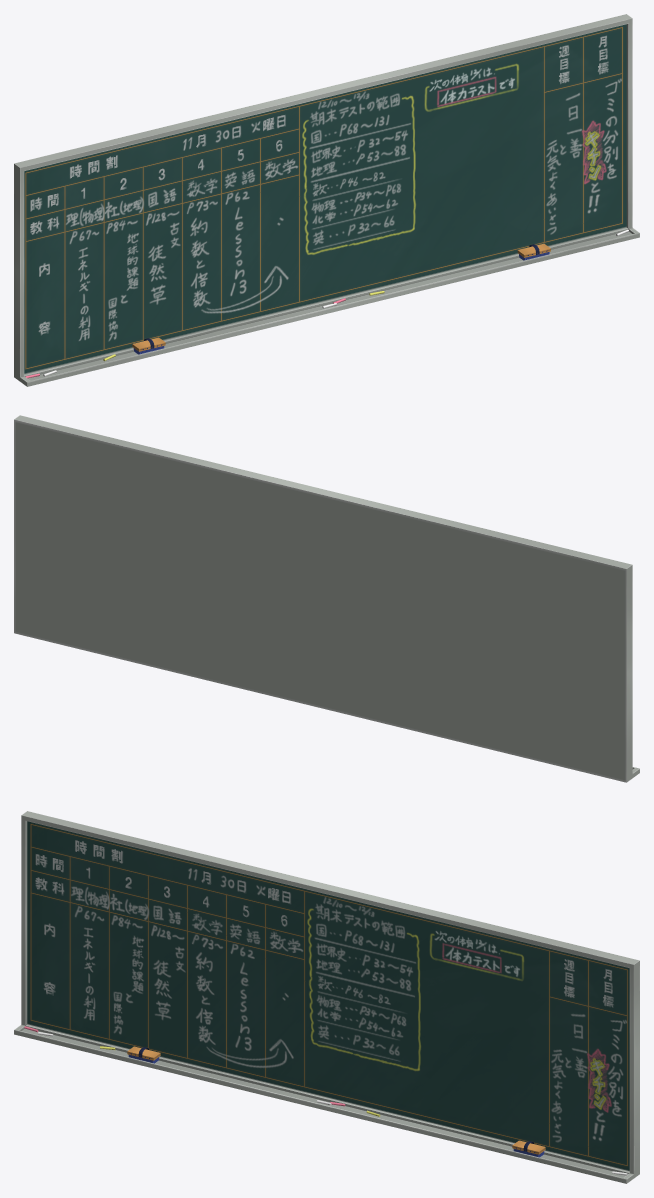
Rendered from Blackboard_01_02.fbx.
3 renders of one model, top to bottom at view 1: azimuth 30°, elevation 25°; view 2: azimuth 150°, elevation 25°; view 3: azimuth 330°, elevation 25°, orthographic.
Parts seen in each view (by area): view 1: blackboard01; view 2: blackboard01; view 3: blackboard01.
Boxes of the visible parts, x1=… form: blackboard01: x1=14, y1=14, x2=639, y2=386; blackboard01: x1=14, y1=415, x2=639, y2=782; blackboard01: x1=14, y1=811, x2=639, y2=1183.
Bounding box in the file's own units: 288 × 96 × 10.83.
